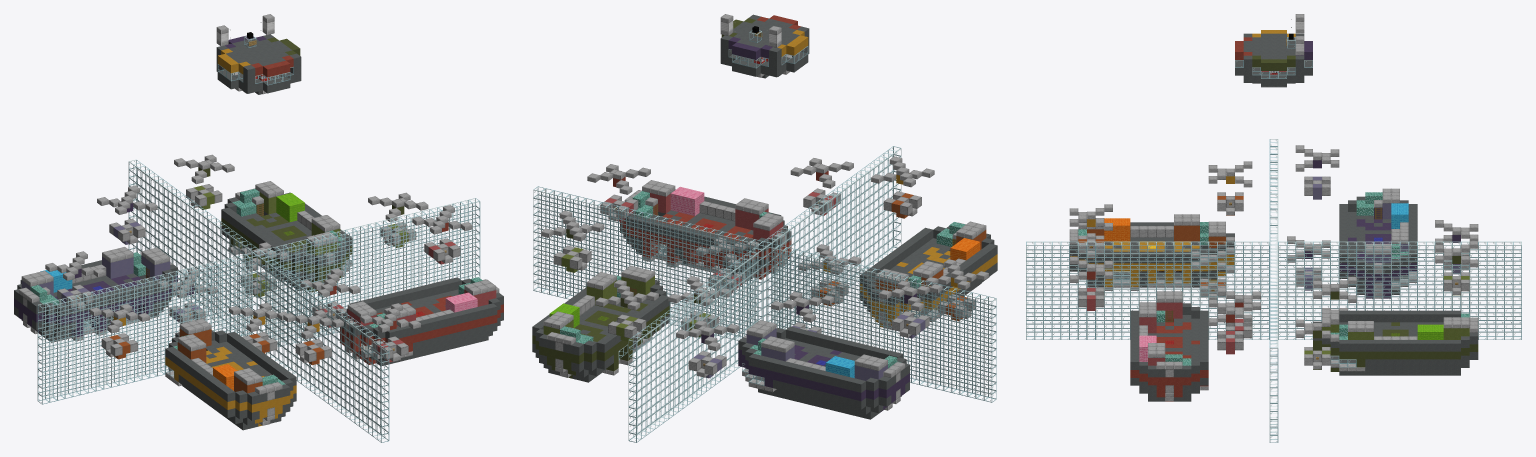
The model's file is minecraft.obj.
The picture shows the model from 3 angles, left to right: view 1: azimuth 30°, elevation 25°; view 2: azimuth 150°, elevation 25°; view 3: azimuth 270°, elevation 25°; orthographic projection. The views are drawn at different scales.
Size of the model in its own units: 57 by 39.5 by 57.
